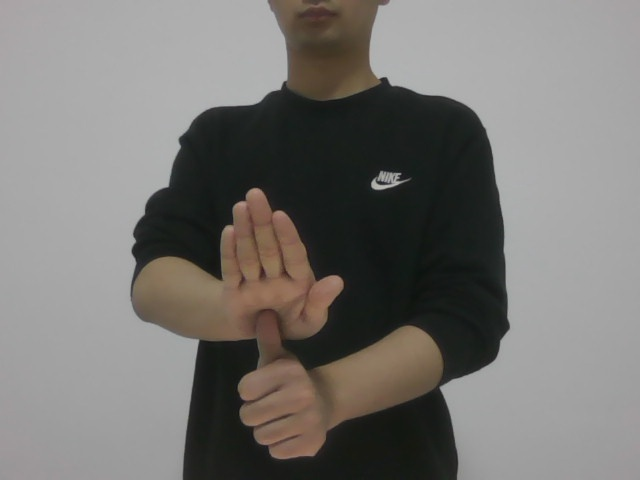love: (212, 180, 341, 459)
